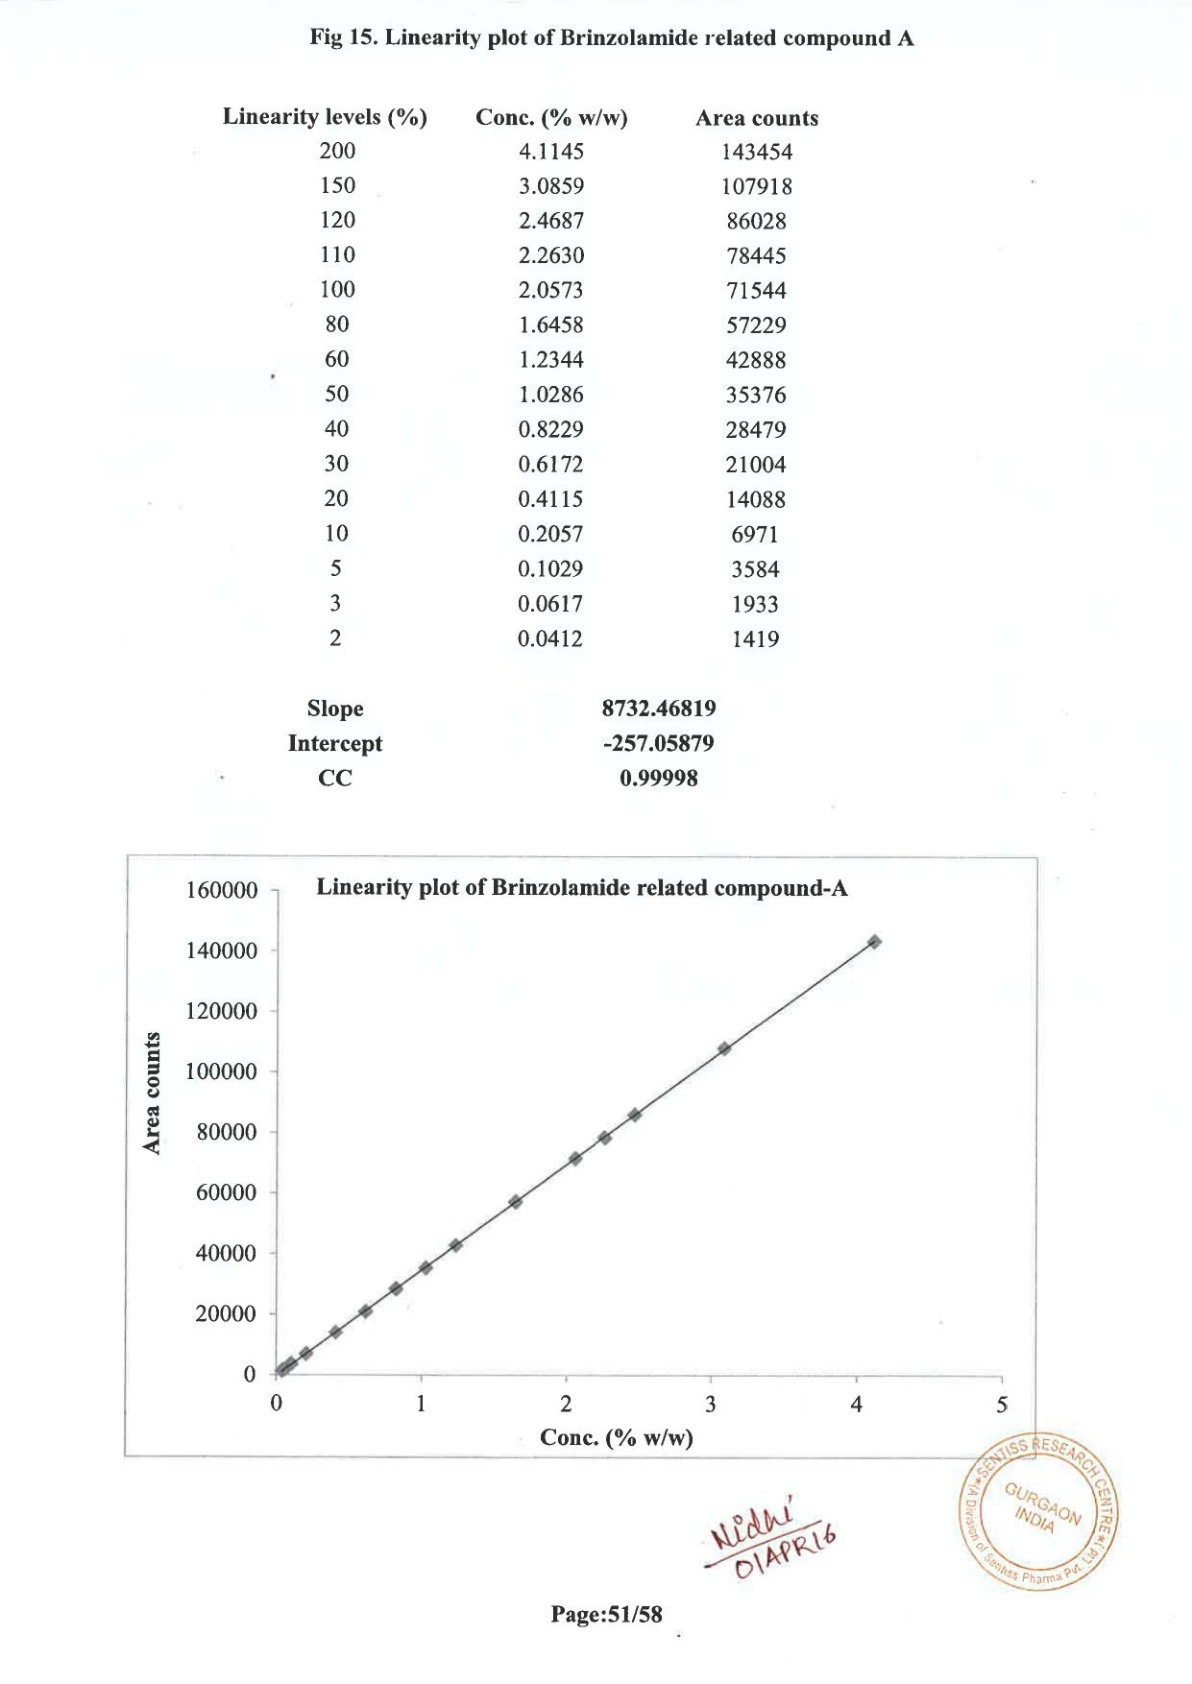nolines: (222, 104, 820, 655), (285, 696, 717, 790)
